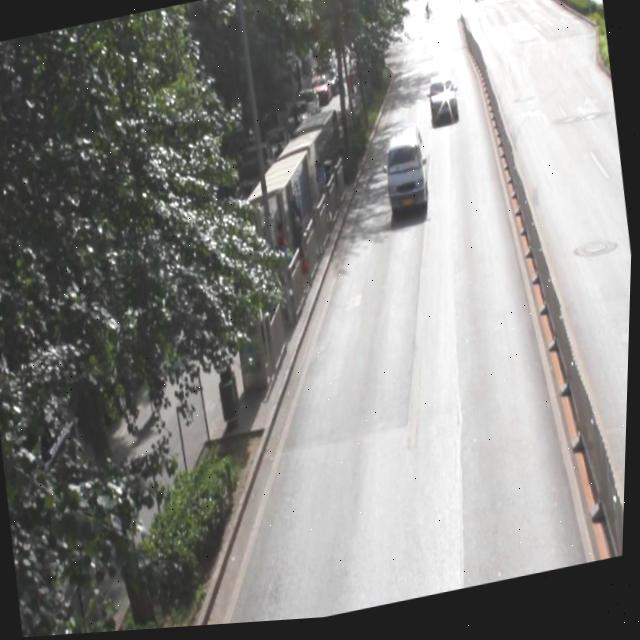car: (424, 79, 460, 133)
truck: (379, 130, 431, 218)
